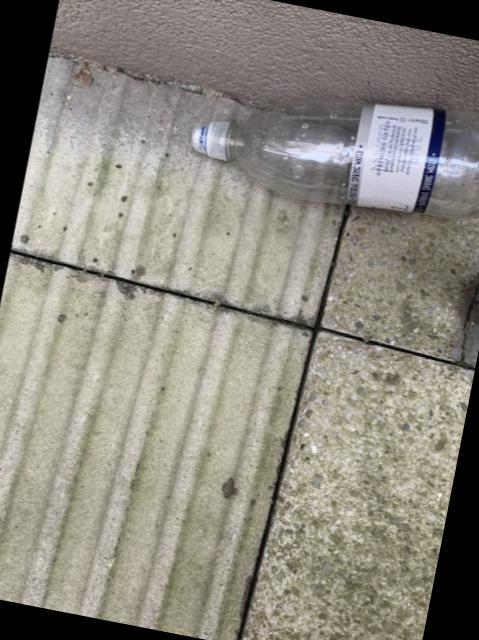plastic: (192, 102, 479, 219)
